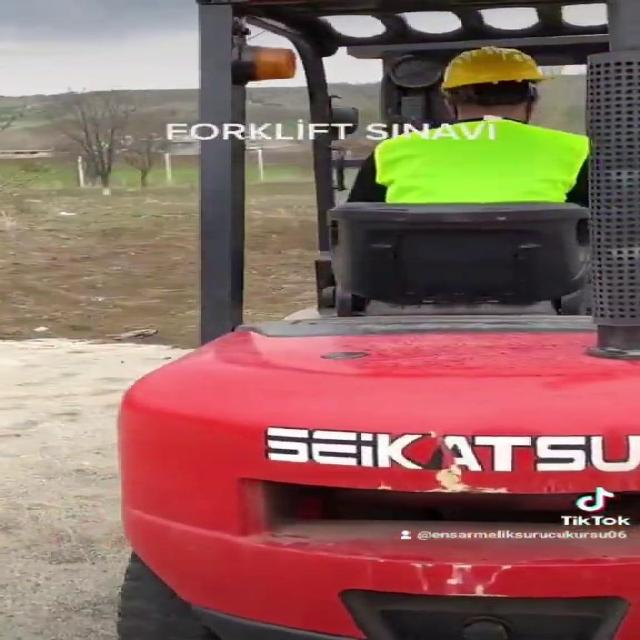forklift: (113, 306, 640, 640)
person: (326, 30, 614, 291)
